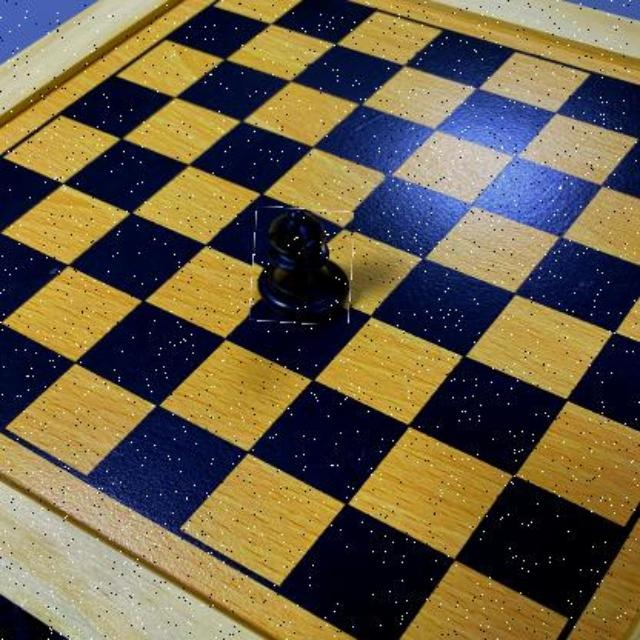black-bishop: (251, 208, 353, 324)
